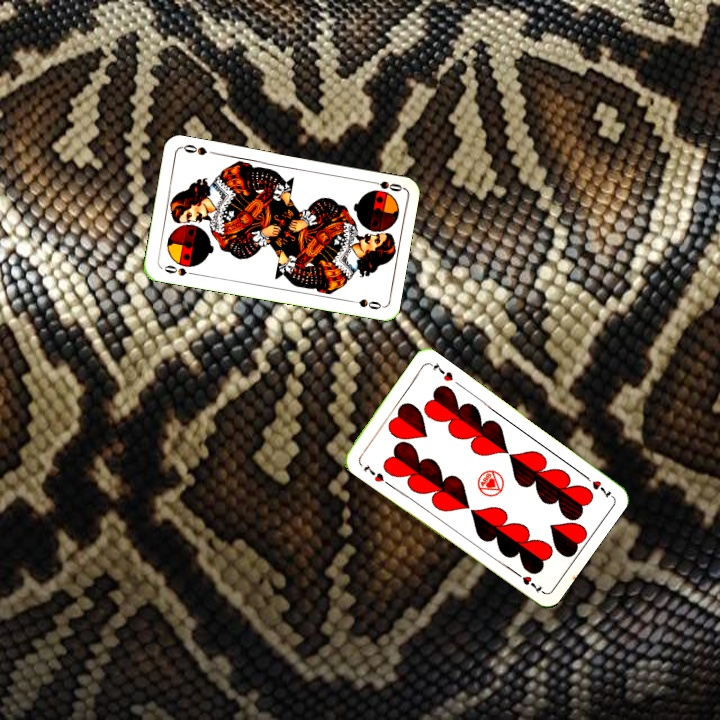H7: (579, 470, 615, 501), (359, 460, 387, 485)
SO: (364, 177, 404, 194), (160, 261, 198, 278)
